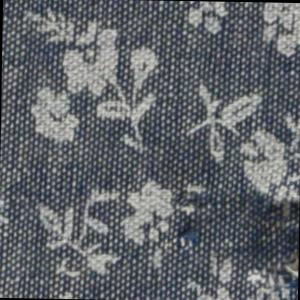Damage: (245, 184, 300, 300), (172, 217, 206, 254)
